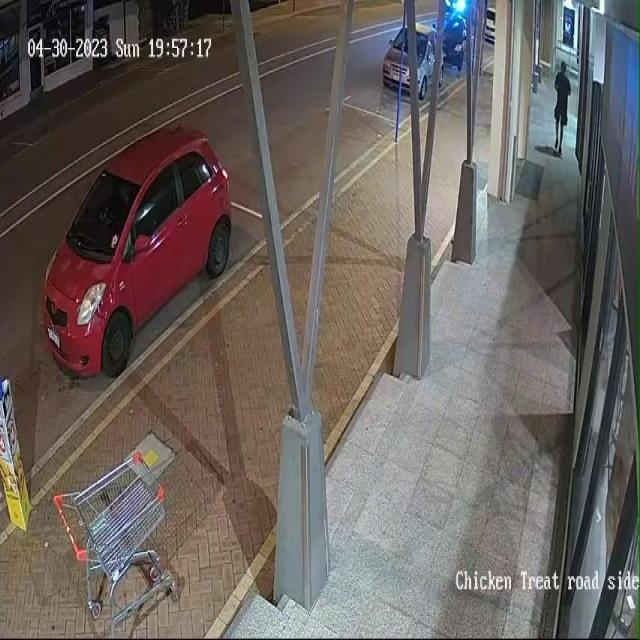Car: (36, 130, 246, 376), (381, 8, 444, 106), (430, 3, 475, 78), (474, 0, 502, 48)
